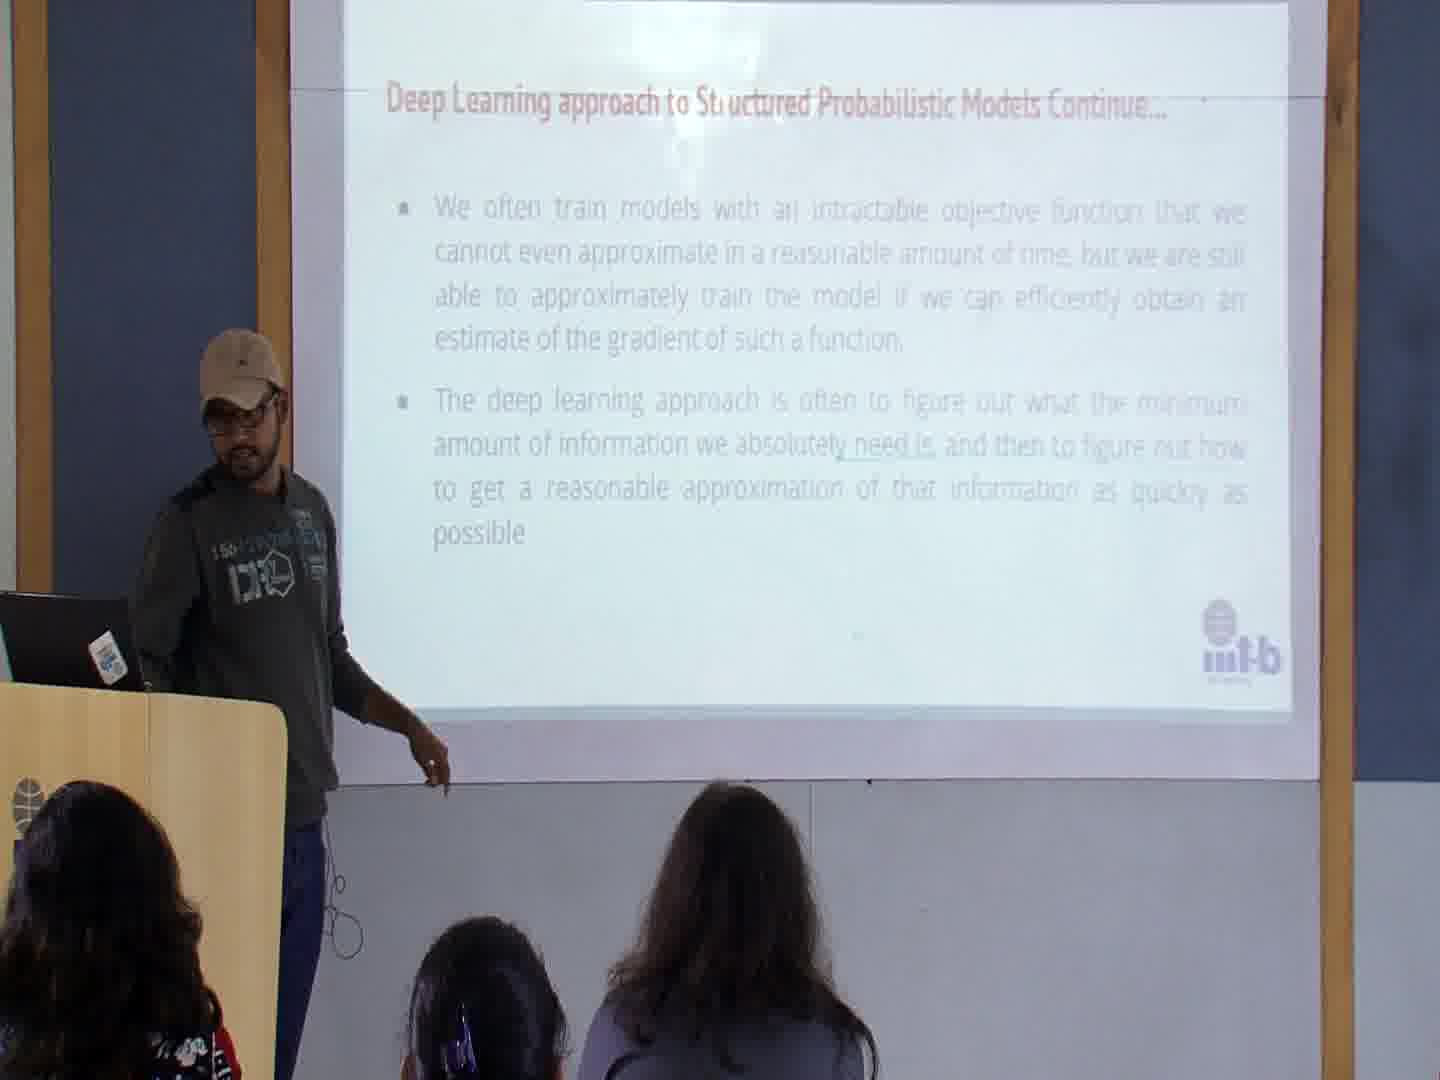slide: (341, 1, 1290, 722)
